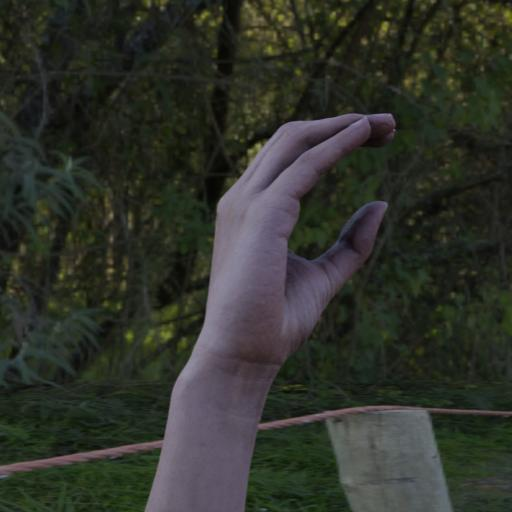C: (192, 96, 418, 364)
